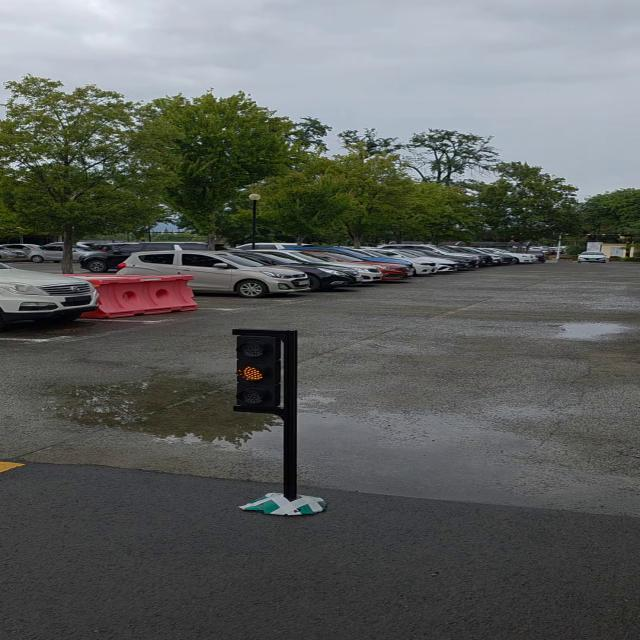yellow: (231, 330, 285, 411)
